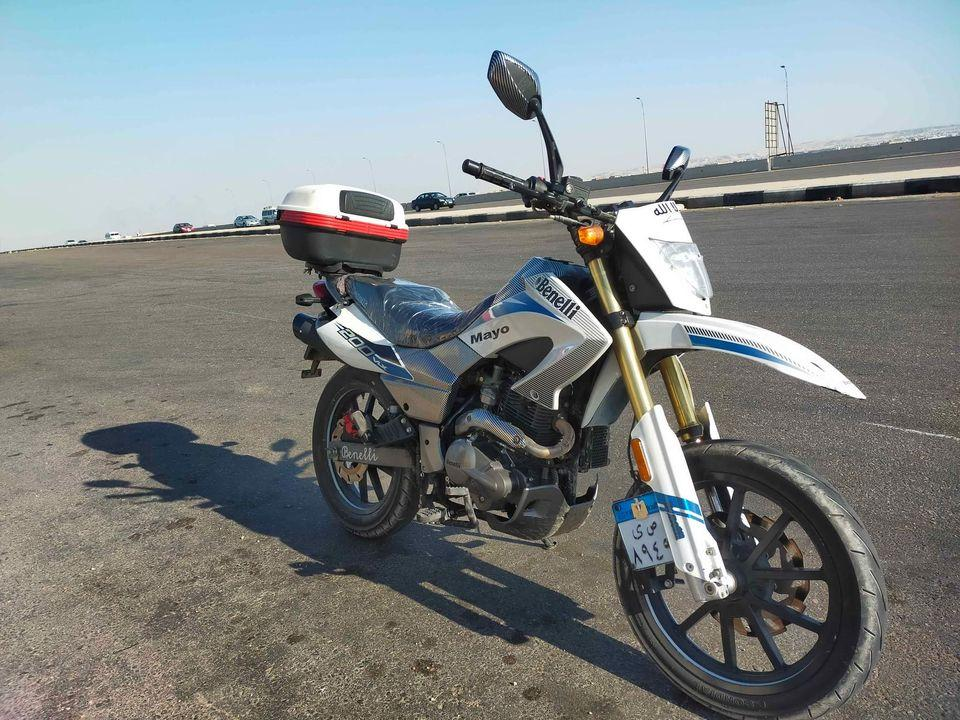License Plate: (611, 487, 674, 573)
